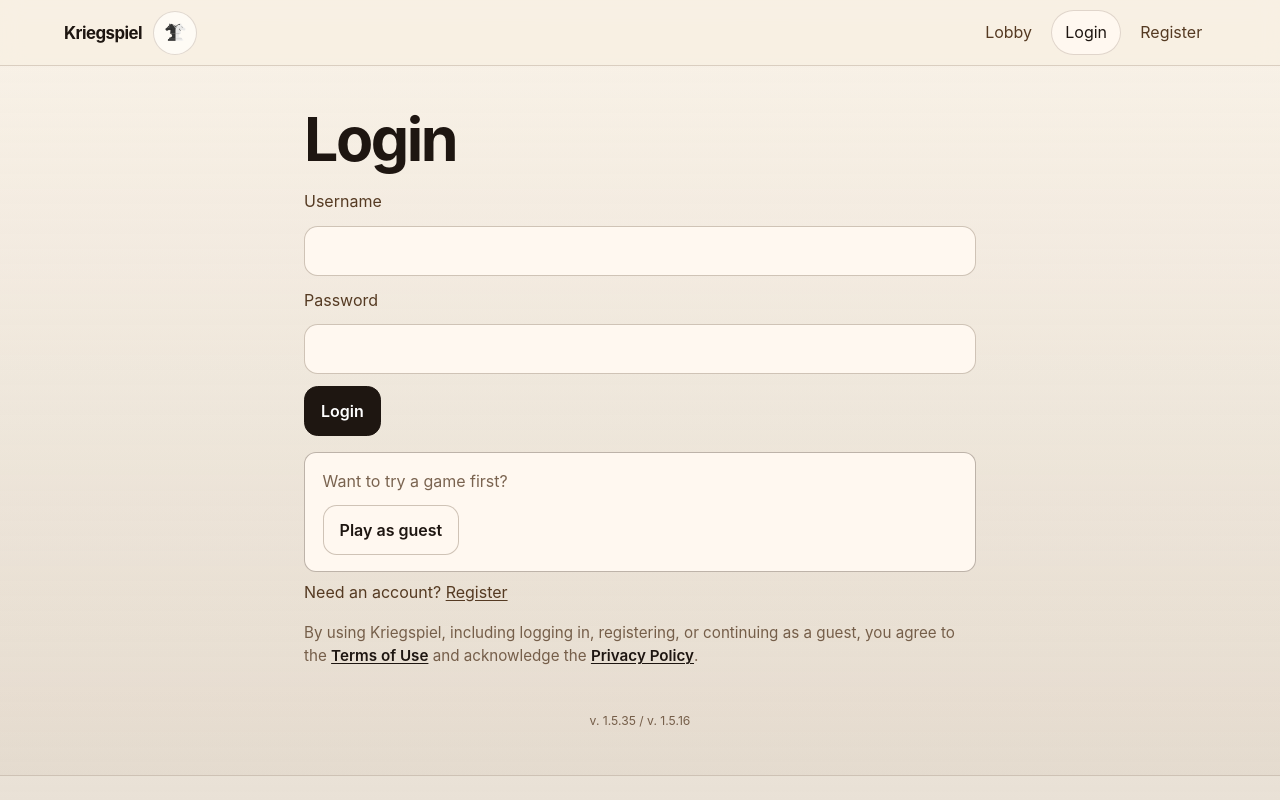
App routes › shows_actionable_error_message_on_login_failure
Type "fil" into the field labelled "Username" at [640, 251], box [304,226,976,276]
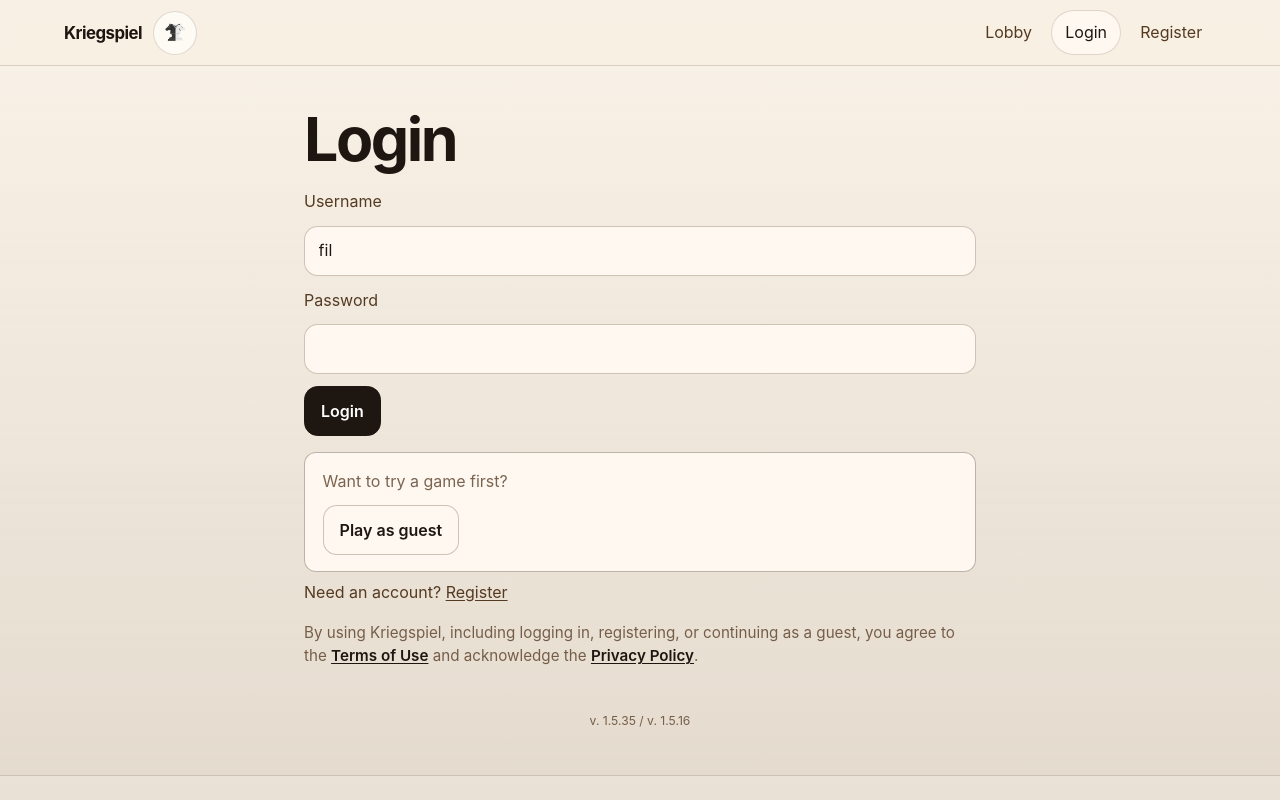
Type "wrong" into the password field labelled "Password" at [640, 349], box [304,324,976,374]
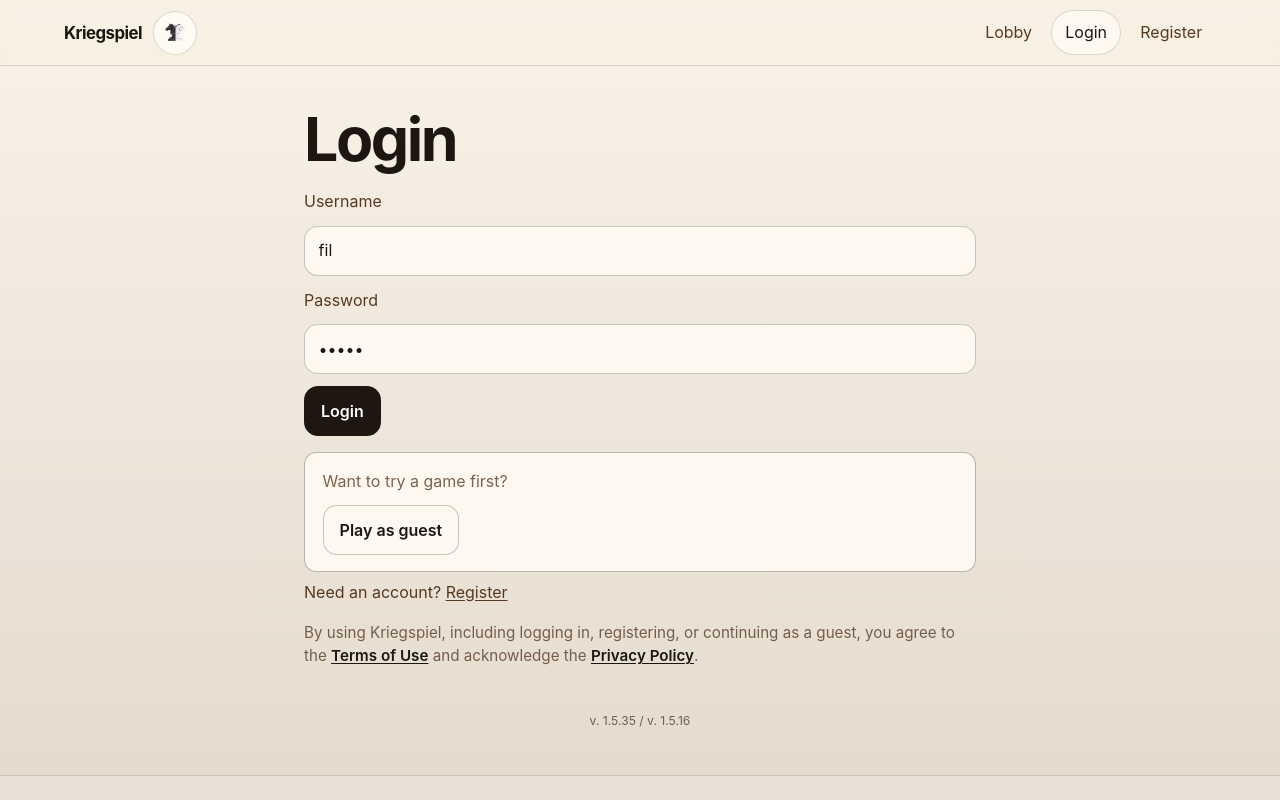
Click the button "Login" at [342, 411], box [304,386,381,436]
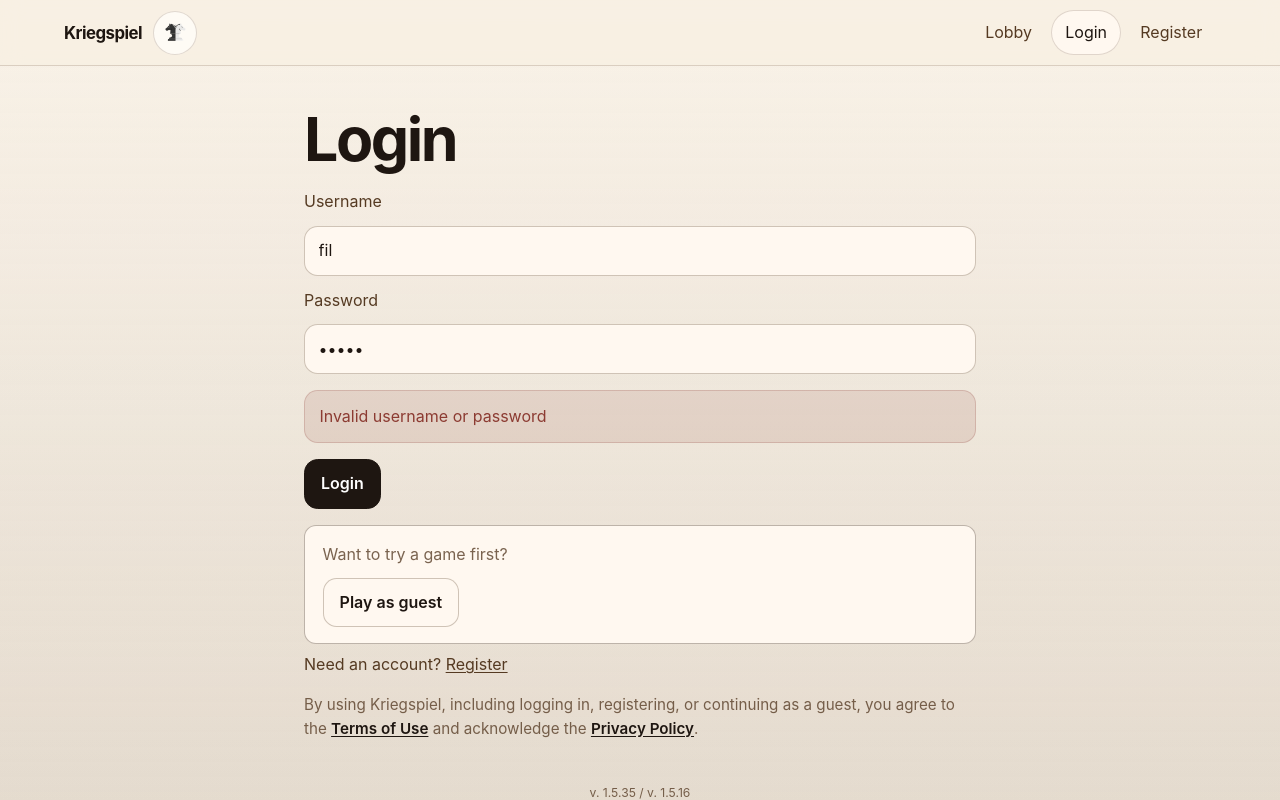
Now the text "Invalid username or password" is shown, box [304,390,976,443]
